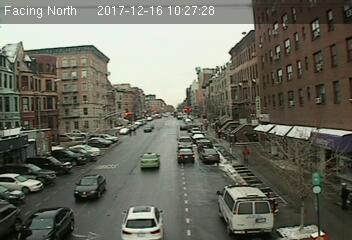car: (15, 206, 74, 240), (121, 203, 166, 240), (74, 172, 107, 203), (139, 151, 161, 169), (177, 149, 195, 164), (199, 149, 220, 161), (176, 136, 194, 149)
police: (215, 181, 277, 237)
